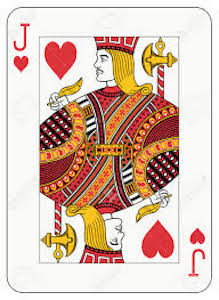JackOfHearts: (5, 4, 213, 296)
